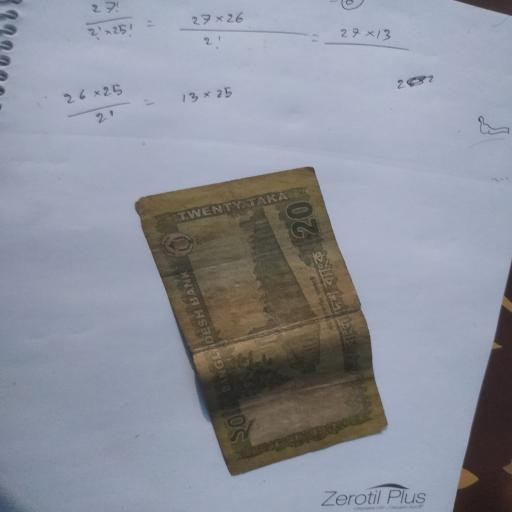20taka: (135, 169, 383, 473)
